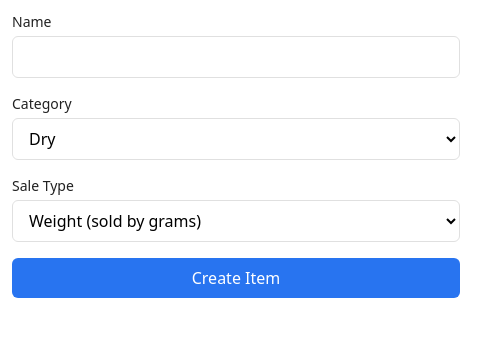
Test case: CreateItemForm › shows validation error when name is empty
This screenshot has width=478, height=340.
Click the button "Create Item": (236,278) x1=12 y1=258 x2=460 y2=298
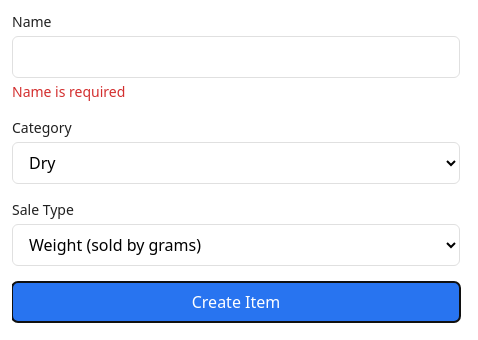
Result: the text "Name is required" is shown at x1=12 y1=82 x2=125 y2=101
